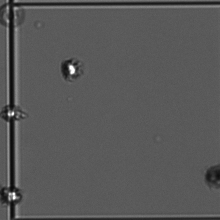Dead Cell: (206, 160, 220, 193)
Living Cell: (55, 53, 81, 87), (2, 100, 28, 132), (3, 184, 26, 208)
